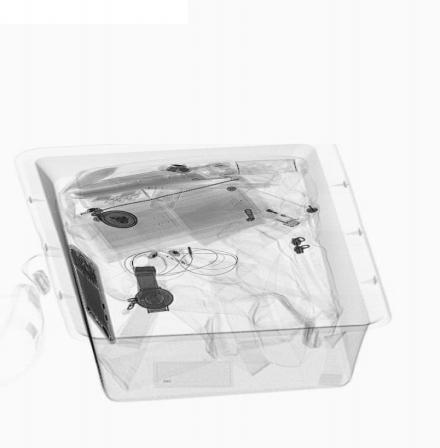Lighter: (234, 199, 304, 228)
